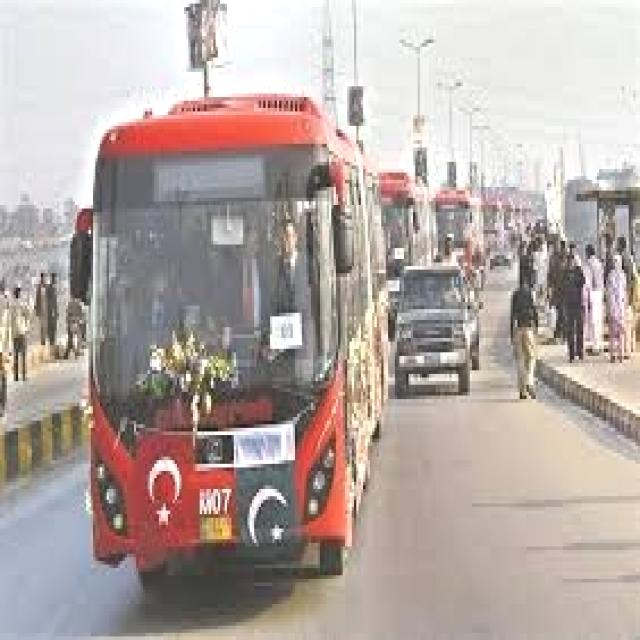bus: (57, 66, 393, 580), (374, 145, 429, 280), (432, 171, 482, 267)
